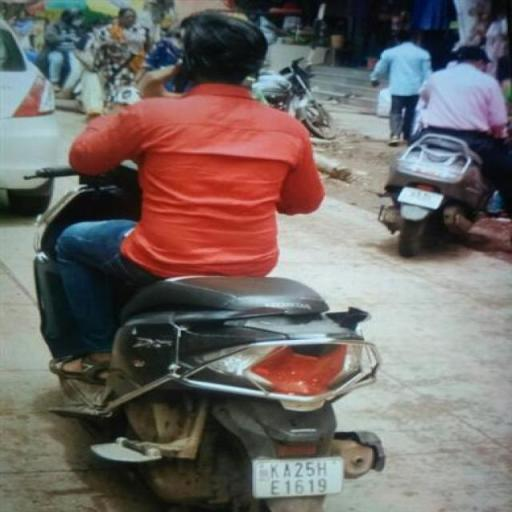using mobile: (138, 54, 196, 94)
